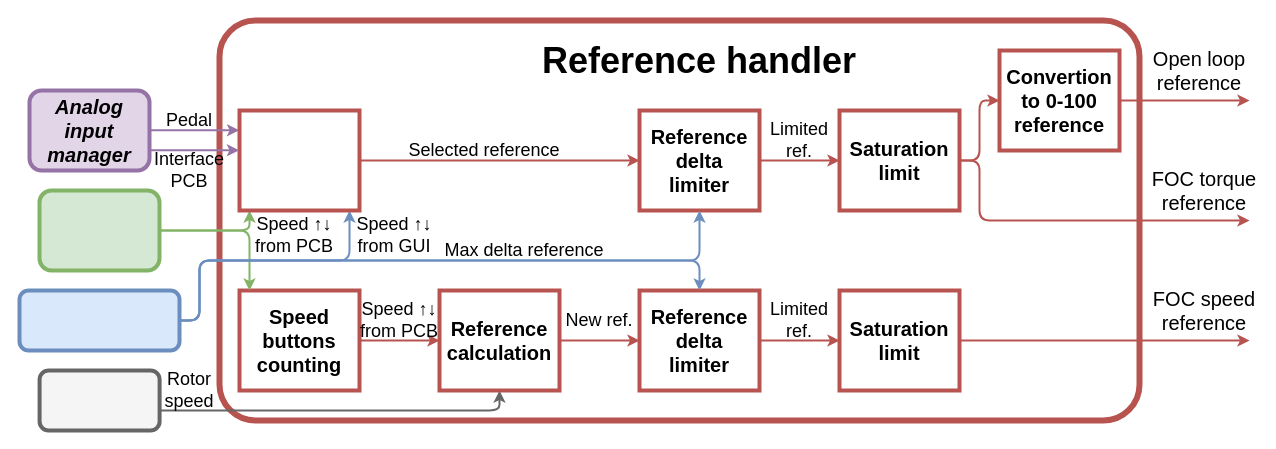
The diagram is 1276 pixels wide and 449 high, and some of its shapes have lost their labels. The shapes that lost their labels are listed below. From the top down, each one's centre as x and y in pixels, then its label:
point 299,160: Reference selection
point 99,230: Digital Input manager
point 99,320: Communication manager
point 99,400: Control
